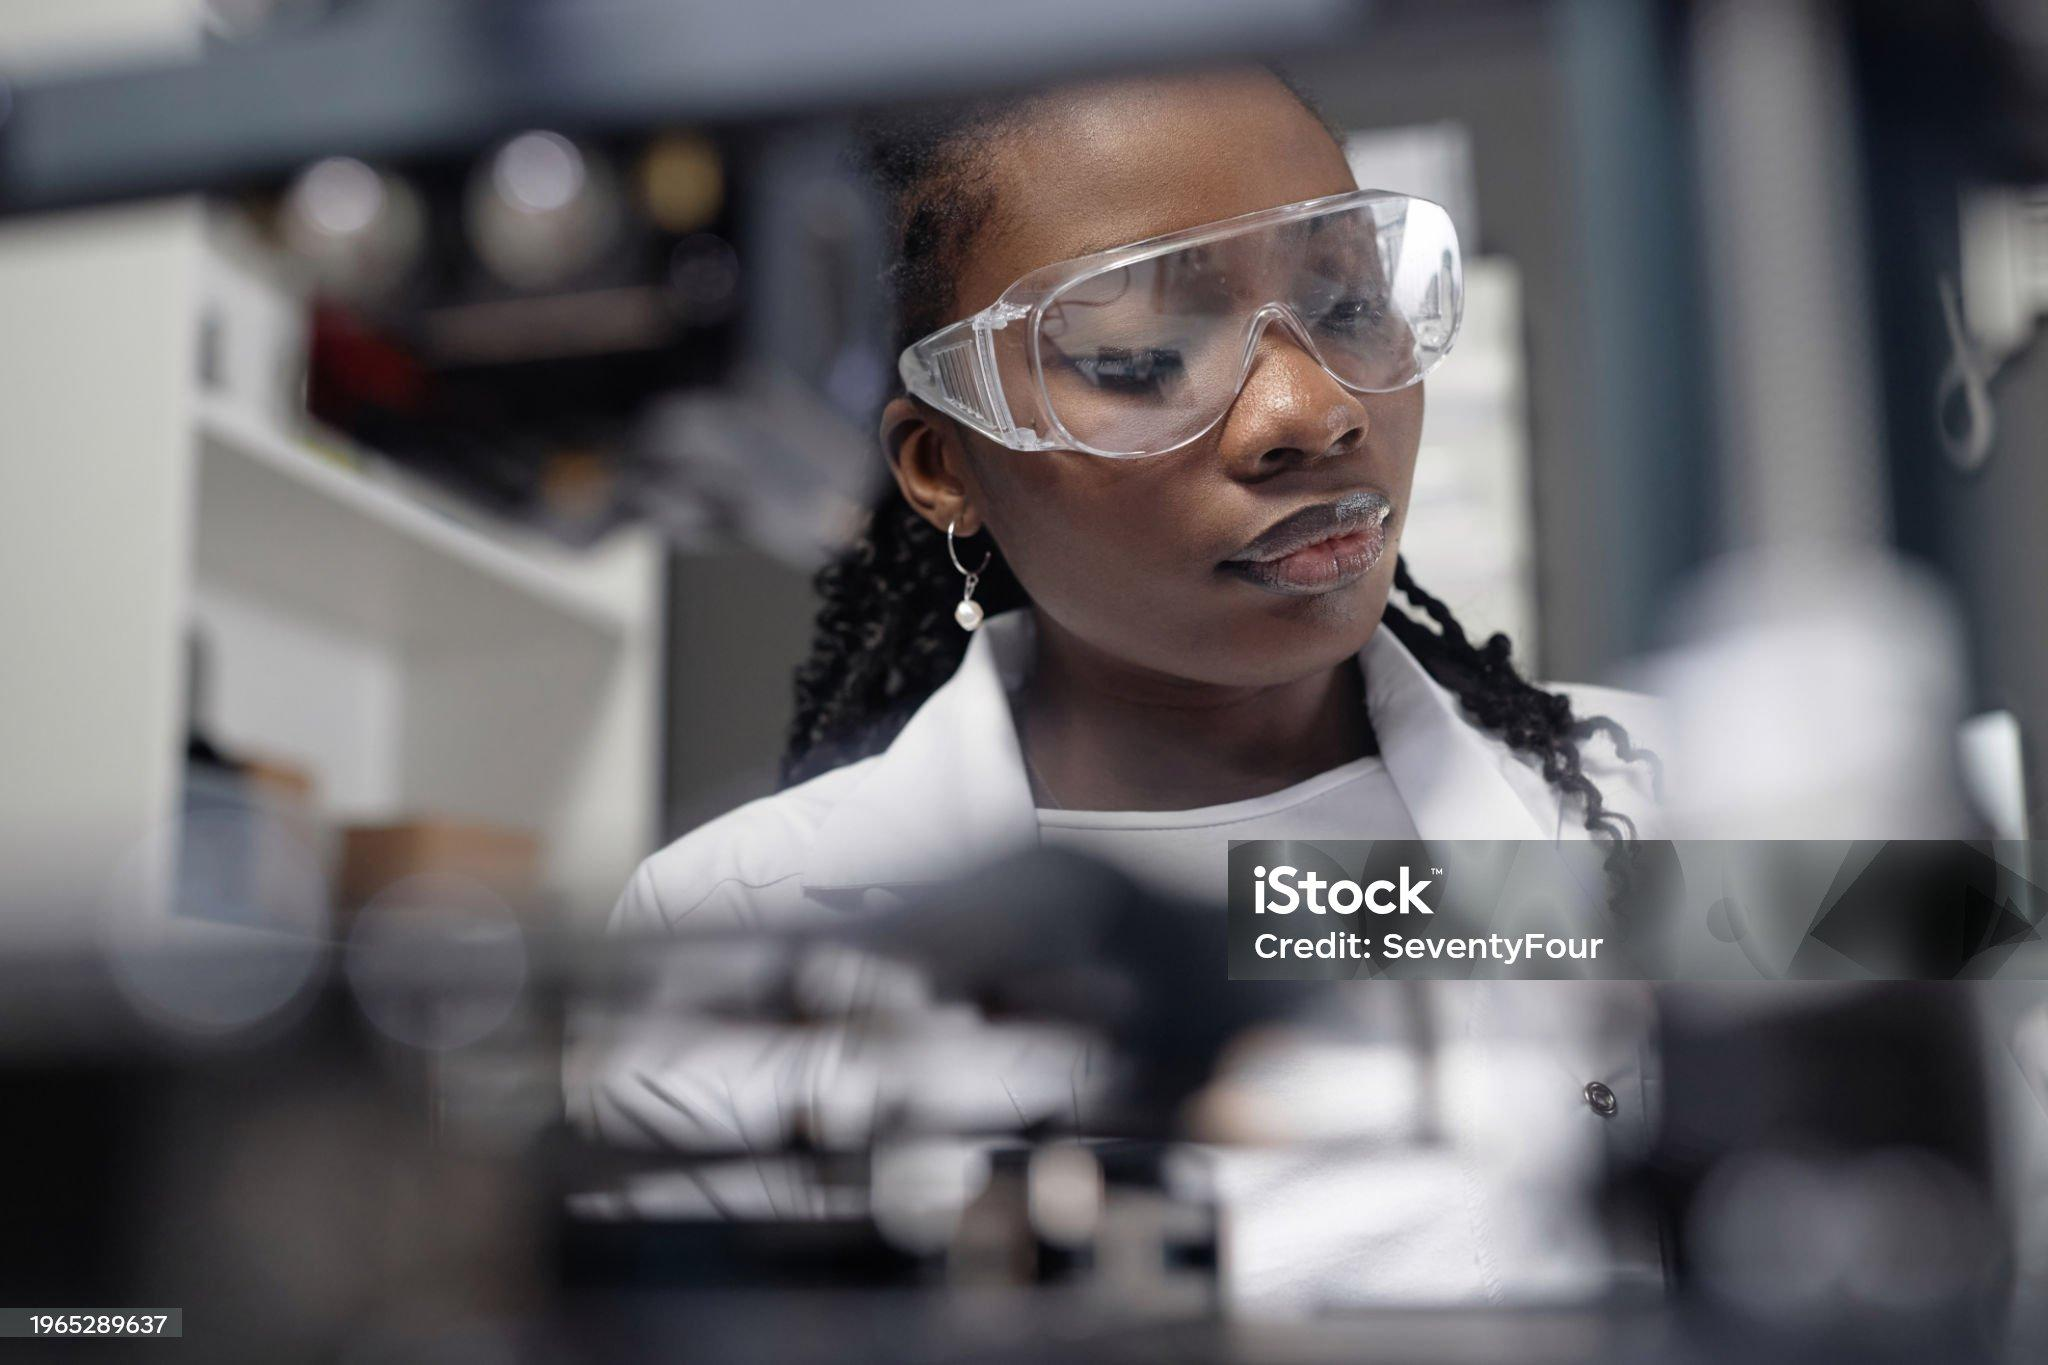Goggles: (898, 189, 1465, 460)
